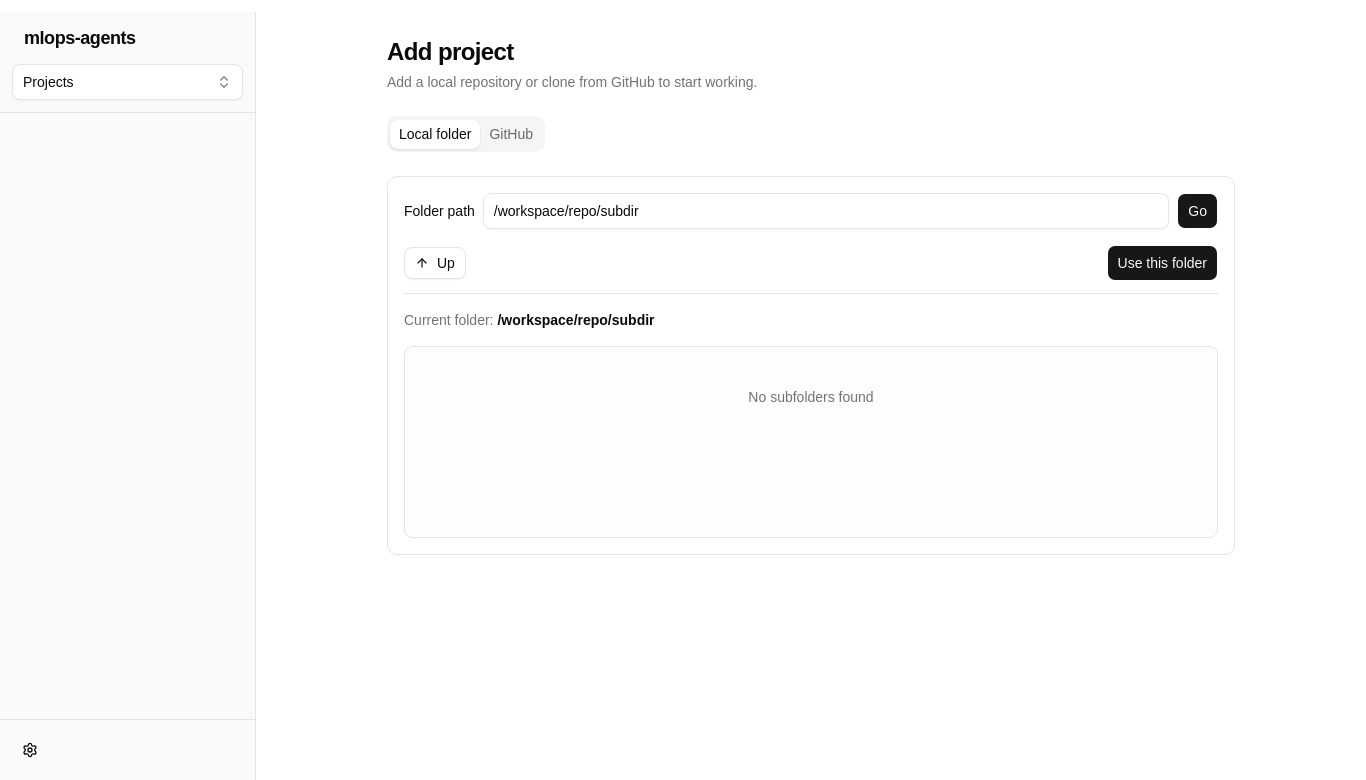
Test: AddProjectPage › not_repo_root offers the root and adding it sends that path
Click the button "Use this folder": coordinates (1162, 263) [1106, 245, 1218, 281]
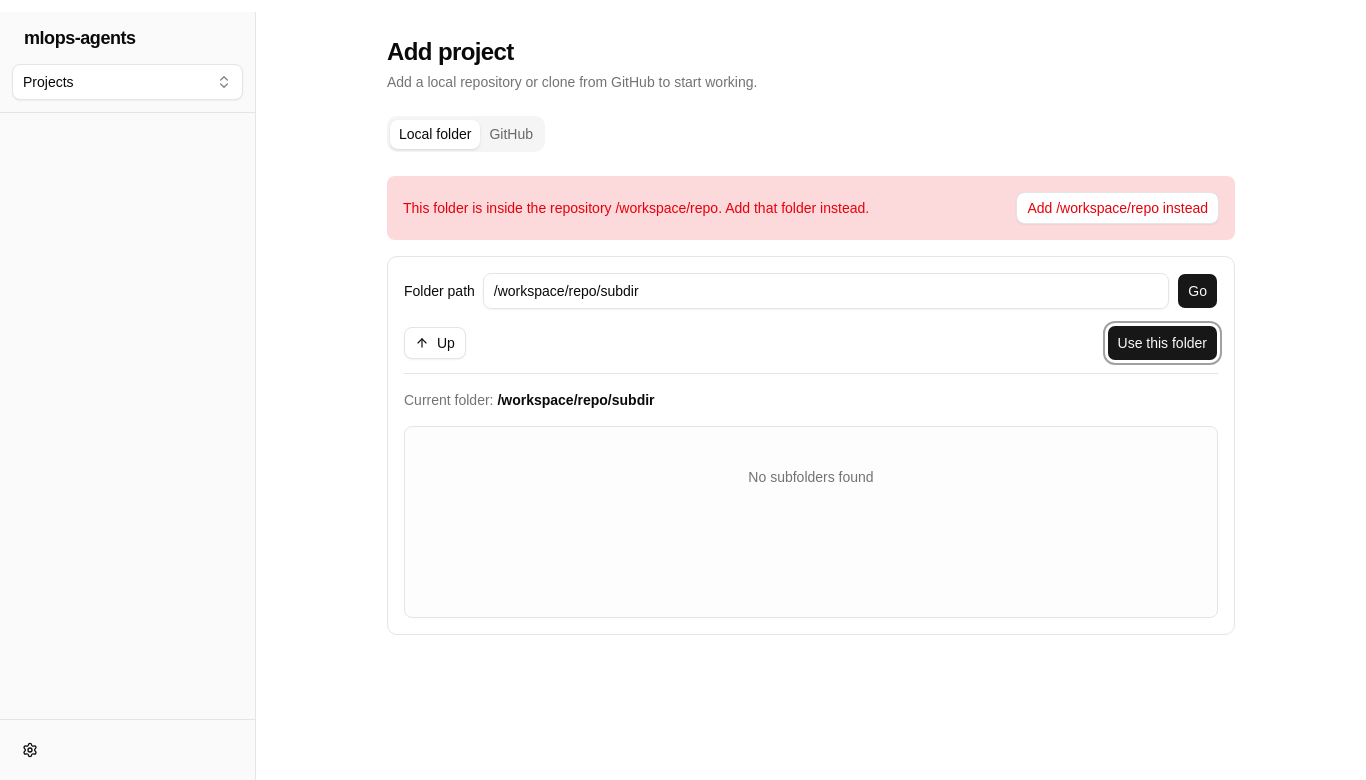
Expected: the text "This folder is inside the repository /workspace/repo. Add that folder instead." is shown, [403, 198, 869, 218]
Click the button "Add /workspace/repo instead": coordinates (1118, 208) [1016, 192, 1219, 224]
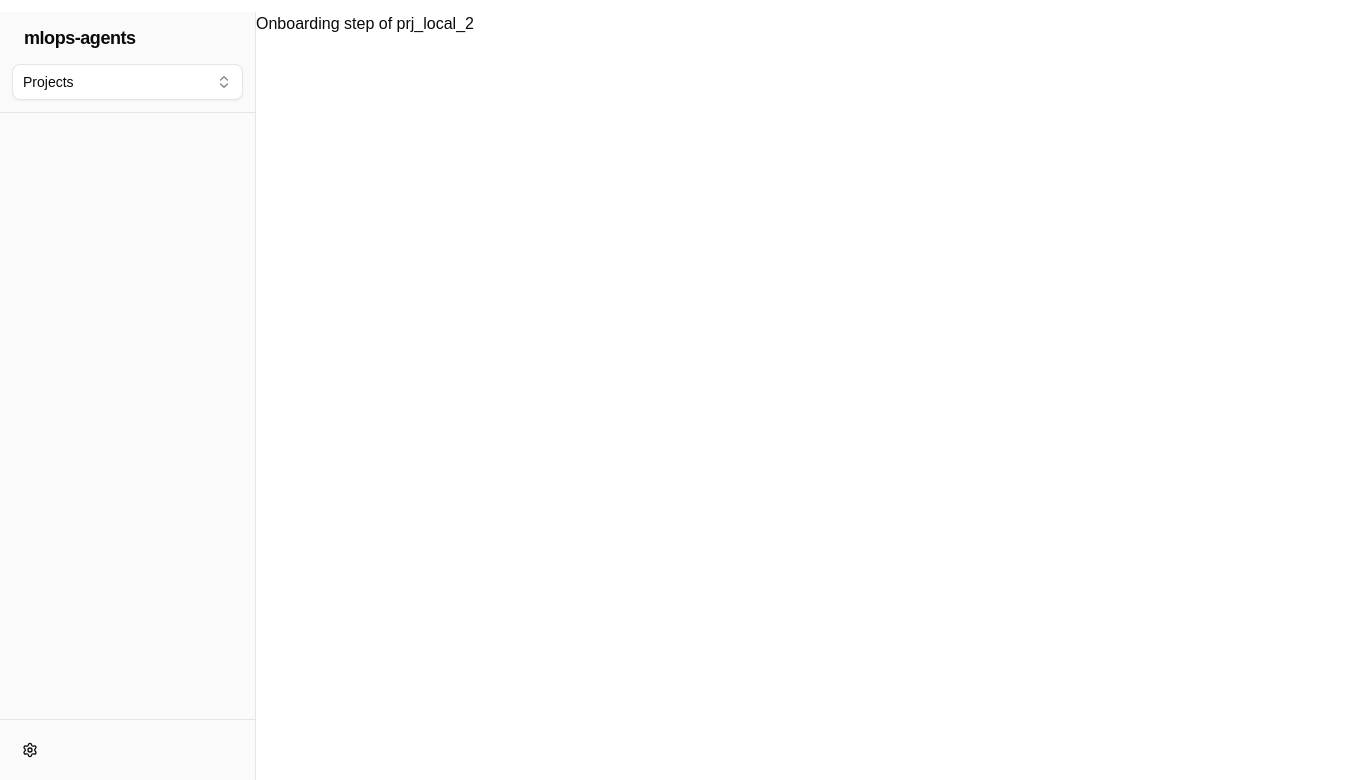
Expected: the text "Onboarding step of prj_local_2" is shown, [256, 15, 474, 32]
